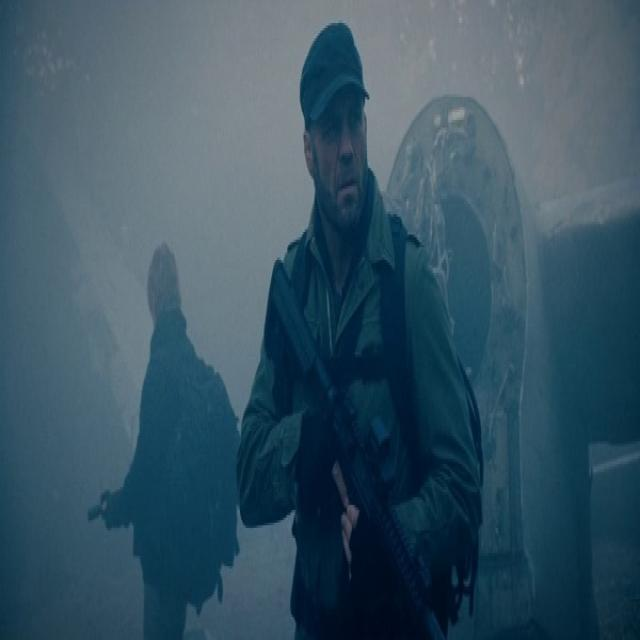rifle: (263, 248, 449, 640)
